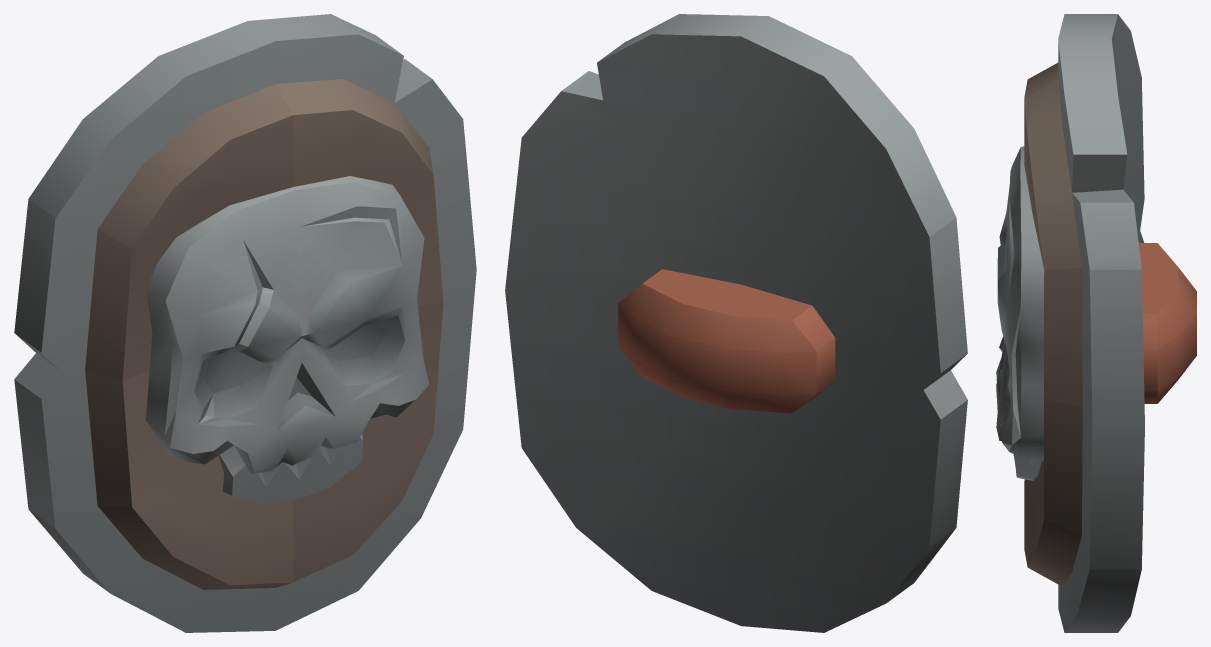
The model's file is skeleton_shield_large_a.glb.
3 views of the same model, side by side, from view 1: azimuth 30°, elevation 25°; view 2: azimuth 150°, elevation 25°; view 3: azimuth 270°, elevation 25° (orthographic). The views are drawn at different scales.
Parts seen in each view (by area): view 1: Skeleton_Shield_Large_A; view 2: Skeleton_Shield_Large_A; view 3: Skeleton_Shield_Large_A.
Boxes of the visible parts, box(x1,y1,x2,y2) form: Skeleton_Shield_Large_A: box(14, 14, 476, 632); Skeleton_Shield_Large_A: box(505, 14, 967, 632); Skeleton_Shield_Large_A: box(996, 14, 1196, 632).
Size of the model in its own units: 0.8771 by 1.13 by 0.3625.
1 material, 1 textured.
